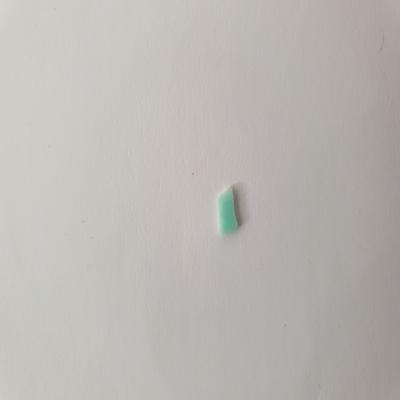plastic: (215, 185, 247, 239)
